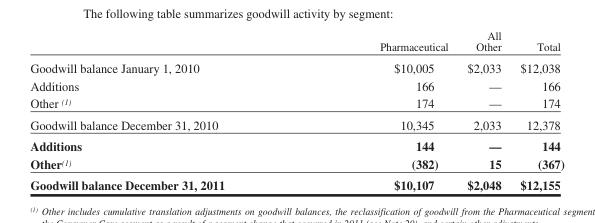table: (29, 28, 563, 192)
table column: (29, 28, 301, 192), (301, 28, 457, 192), (457, 28, 510, 192), (510, 28, 563, 192)
table column header: (29, 28, 563, 56)
table row: (29, 28, 563, 56), (29, 113, 563, 134), (29, 56, 563, 76), (29, 134, 563, 154), (29, 154, 563, 174), (29, 94, 563, 113), (29, 76, 563, 94), (29, 174, 563, 192)
